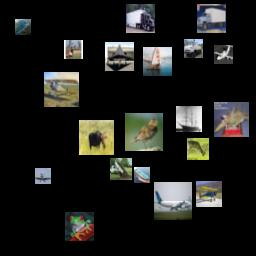airplane: (154, 182, 192, 220), (214, 102, 249, 137), (44, 72, 79, 107), (105, 42, 134, 71), (196, 181, 222, 207), (214, 45, 233, 64), (35, 168, 51, 184), (15, 19, 31, 35)
bird: (125, 113, 163, 151)
deer: (79, 120, 114, 155), (187, 138, 209, 160), (64, 40, 83, 59)
frog: (65, 212, 94, 241)
ship: (143, 47, 172, 76), (176, 106, 202, 132), (134, 167, 150, 183)
truck: (126, 4, 155, 33), (197, 4, 226, 33), (110, 158, 132, 180), (184, 39, 203, 58)
